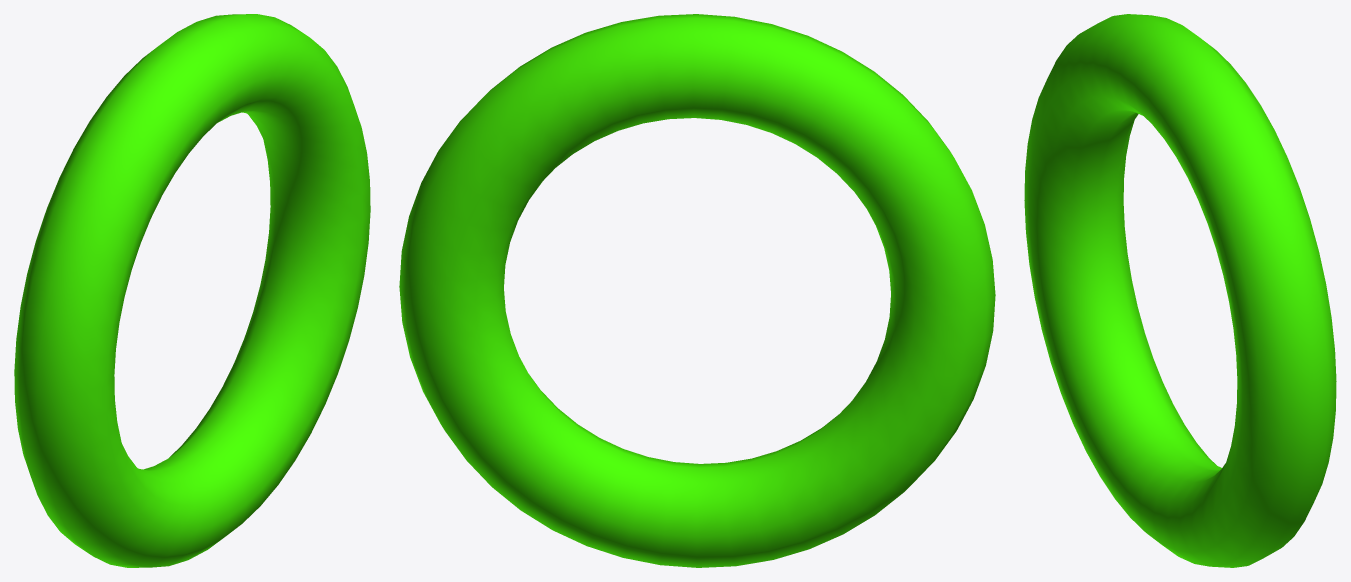
3 renders of one model, left to right at view 1: azimuth 30°, elevation 25°; view 2: azimuth 150°, elevation 25°; view 3: azimuth 270°, elevation 25°, orthographic. The views are drawn at different scales.
Parts seen in each view (by area): view 1: Torus.002; view 2: Torus.002; view 3: Torus.002.
Part boxes in pixels (bbox=[...]): Torus.002: bbox=[14, 14, 370, 567]; Torus.002: bbox=[399, 14, 995, 567]; Torus.002: bbox=[1024, 14, 1336, 567].
Bounding box in the file's own units: 1.07 × 1.17 × 0.6454.
